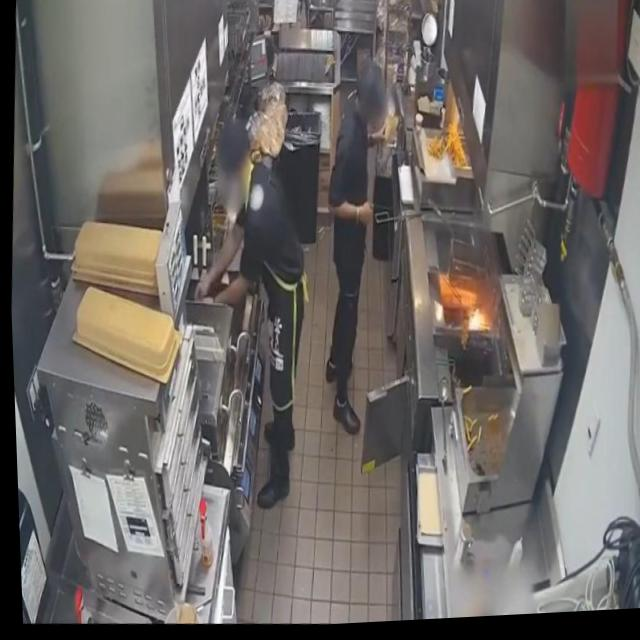fire: (462, 307, 489, 338)
